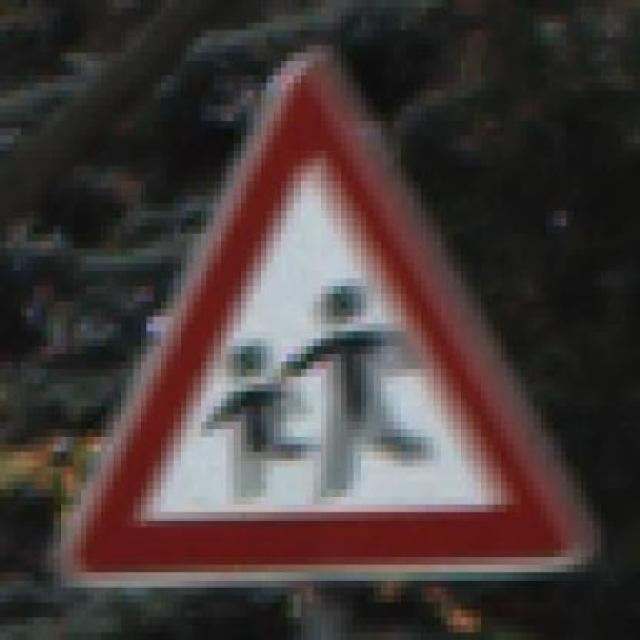Beware of children: (59, 37, 607, 588)
